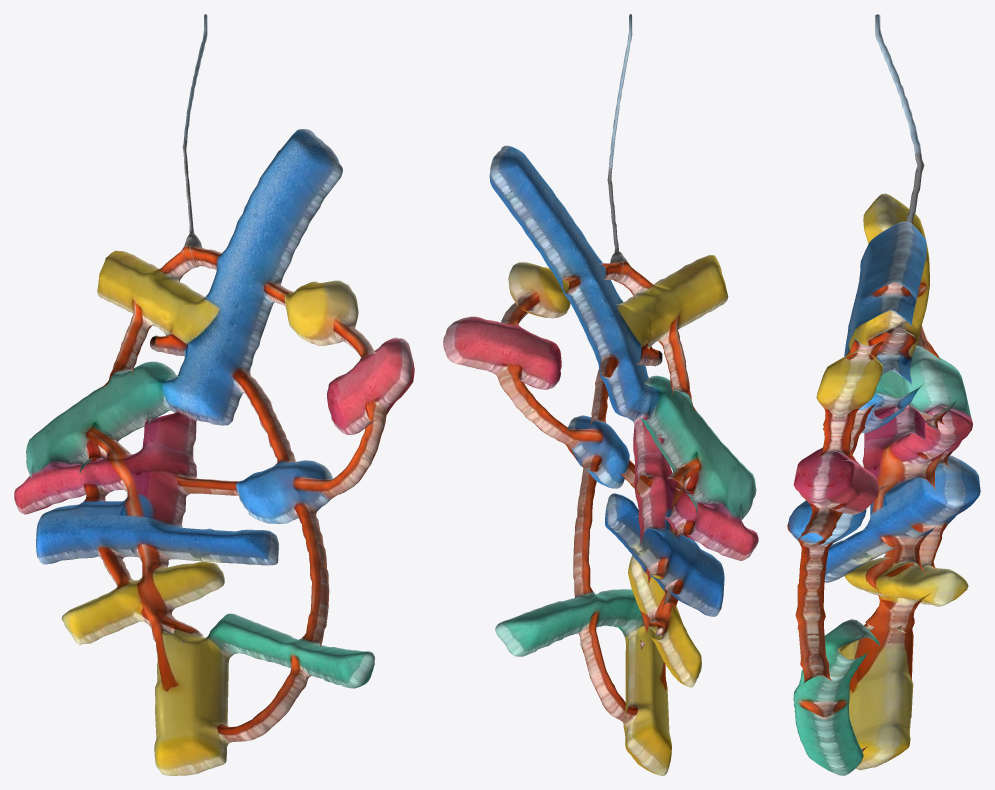
Rendered from hy3d-mov-018.glb.
The picture shows the model from 3 angles, left to right: view 1: azimuth 30°, elevation 25°; view 2: azimuth 150°, elevation 25°; view 3: azimuth 270°, elevation 25°; orthographic projection.
Visible parts, largest first — view 1: world; view 2: world; view 3: world.
Boxes of the visible parts, bbox=[...] form: world: bbox=[14, 14, 414, 775]; world: bbox=[443, 14, 758, 775]; world: bbox=[787, 14, 980, 775].
Bounding box in the file's own units: 1.18 × 2.39 × 0.5494.
1 material, 1 textured.
